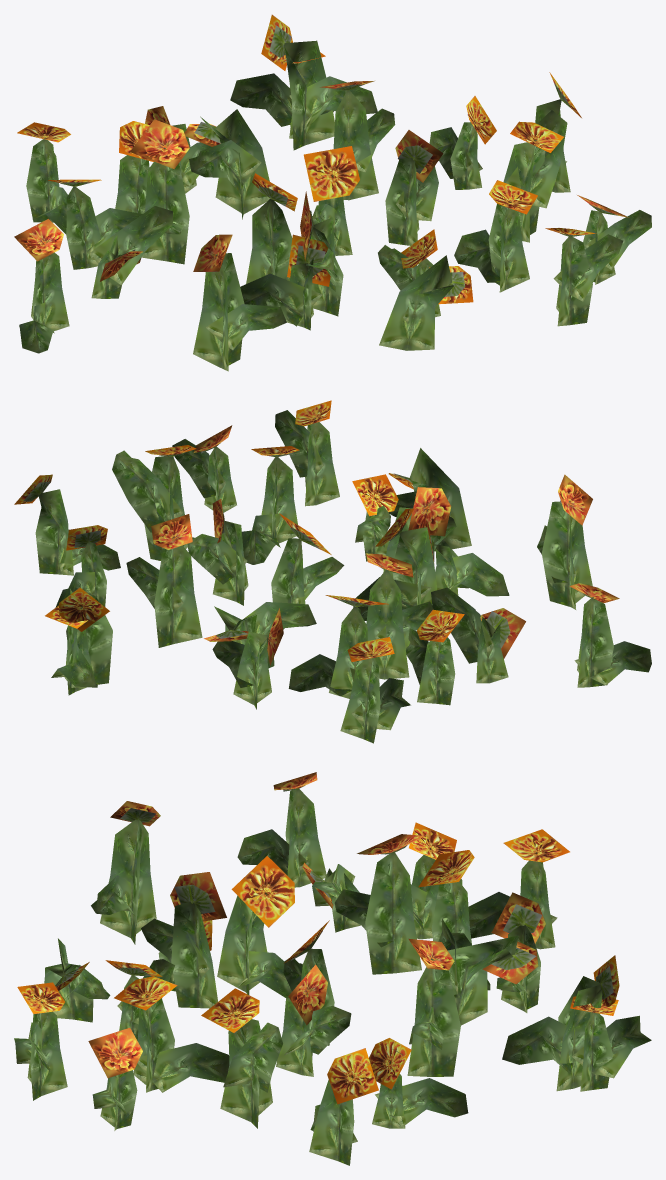
File: Marigold_Patch.fbx
The picture shows the model from 3 angles, top to bottom: view 1: azimuth 30°, elevation 25°; view 2: azimuth 150°, elevation 25°; view 3: azimuth 270°, elevation 25°; orthographic projection. The views are drawn at different scales.
Visible parts, largest first — view 1: LOD0; view 2: LOD0; view 3: LOD0.
Part boxes in pixels (x1,y1,x2,y2): LOD0: [14, 14, 651, 371]; LOD0: [14, 400, 651, 743]; LOD0: [14, 772, 651, 1165].
Size of the model in its own units: 6.62 by 1.41 by 5.77.
